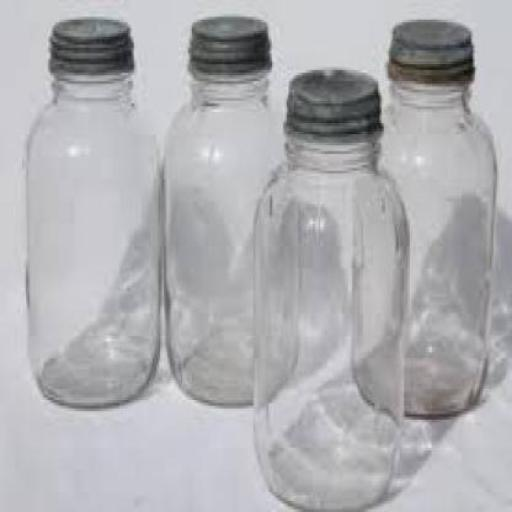glass: (253, 126, 408, 510), (356, 75, 497, 420), (158, 64, 296, 406), (22, 70, 156, 406)
metal: (283, 67, 380, 135), (383, 22, 471, 81), (186, 11, 268, 73), (44, 14, 134, 70)
